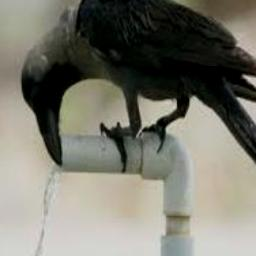Crow: (20, 0, 256, 189)
